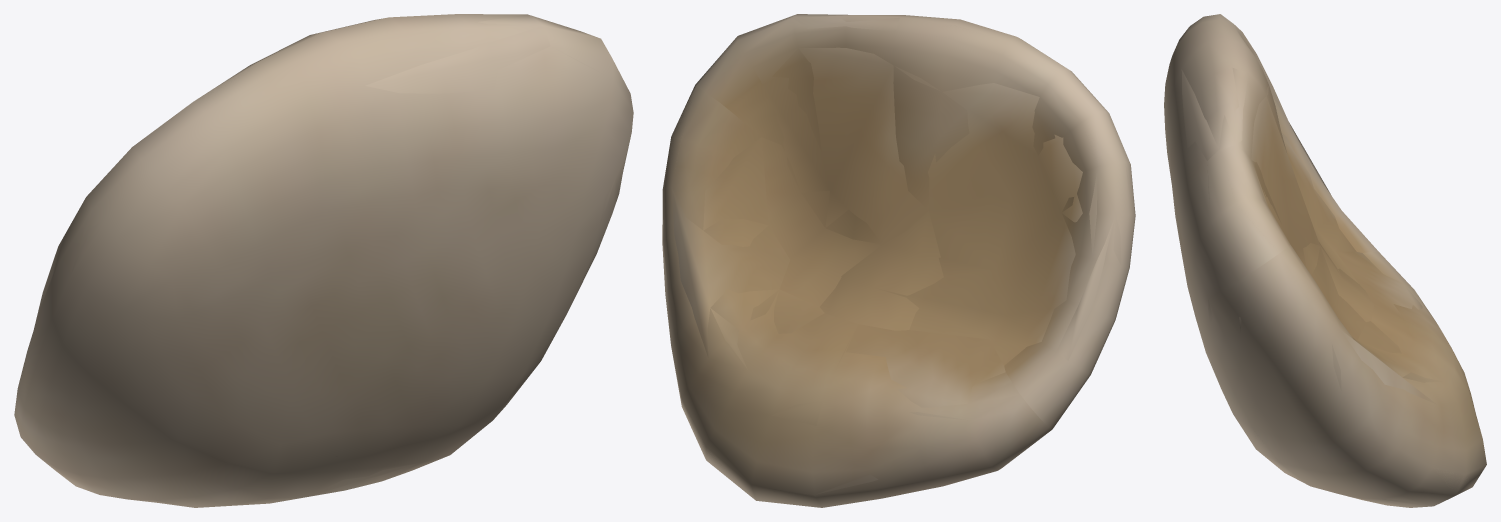
File: R Patella.fbx
3 views of the same model, side by side, from view 1: azimuth 30°, elevation 25°; view 2: azimuth 150°, elevation 25°; view 3: azimuth 270°, elevation 25° (orthographic). The views are drawn at different scales.
Visible parts, largest first — view 1: R Patella, R Patella low; view 2: R Patella, R Patella low; view 3: R Patella, R Patella low.
Boxes of the visible parts, x1,y1,x2,y2 form: R Patella: (14, 14, 633, 507); R Patella low: (41, 14, 623, 507); R Patella: (662, 14, 1135, 507); R Patella low: (662, 14, 1134, 504); R Patella: (1164, 14, 1486, 507); R Patella low: (1181, 15, 1471, 506).
Bounding box in the file's own units: 6.88 × 6.19 × 4.33.
Materials: 1 (1 with a texture image).
